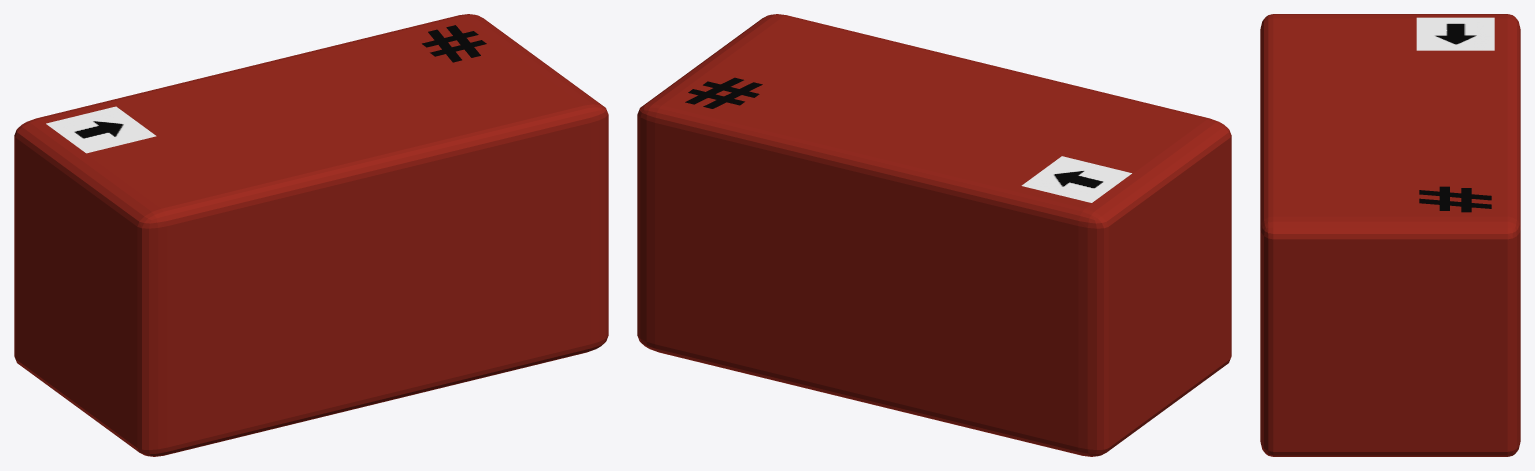
The model's file is Trans_Highlight_Hashtag.dae.
3 renders of one model, left to right at view 1: azimuth 30°, elevation 25°; view 2: azimuth 150°, elevation 25°; view 3: azimuth 270°, elevation 25°, orthographic. The views are drawn at different scales.
Visible parts, largest first — view 1: Cube, Plane, Plane_001; view 2: Cube, Plane, Plane_001; view 3: Cube, Plane, Plane_001.
Boxes of the visible parts, box(x1,y1,x2,y2) form: Cube: box(14, 14, 608, 456); Plane: box(46, 106, 156, 153); Plane_001: box(422, 25, 486, 62); Cube: box(637, 14, 1231, 456); Plane: box(1021, 156, 1131, 202); Plane_001: box(685, 77, 762, 108); Cube: box(1260, 14, 1520, 456); Plane: box(1416, 17, 1494, 50); Plane_001: box(1419, 186, 1491, 212).
Size of the model in its own units: 2 by 1 by 1.
3 materials, 2 textured.
